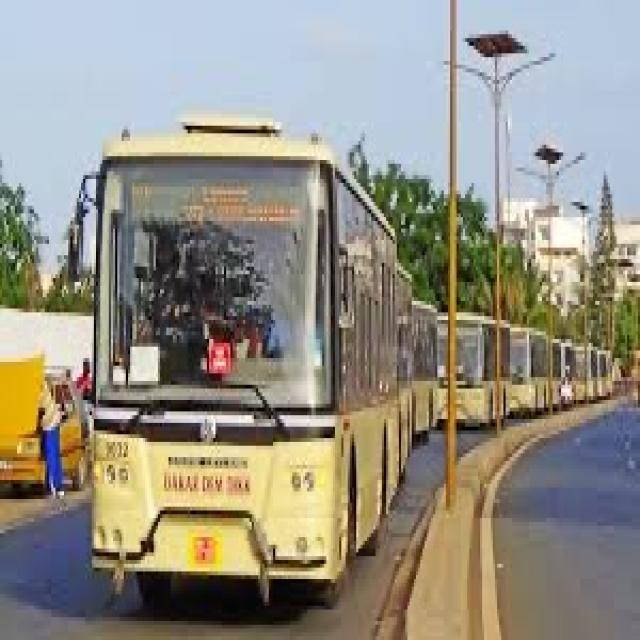bus dem dikk: (92, 122, 404, 601), (555, 338, 614, 409), (459, 315, 496, 425), (507, 328, 549, 409), (437, 319, 449, 423)
